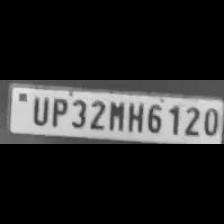0: (199, 104, 219, 136)
1: (163, 102, 181, 134)
2: (180, 102, 200, 136), (86, 97, 106, 129)
3: (68, 96, 86, 128)
6: (144, 100, 164, 134)
H: (124, 100, 142, 132)
M: (105, 98, 124, 132)
P: (47, 96, 67, 126)
U: (28, 94, 48, 126)
